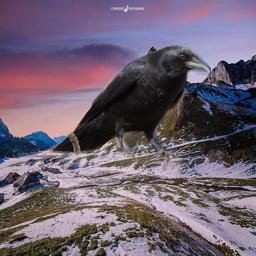Crow: (44, 43, 211, 169)
